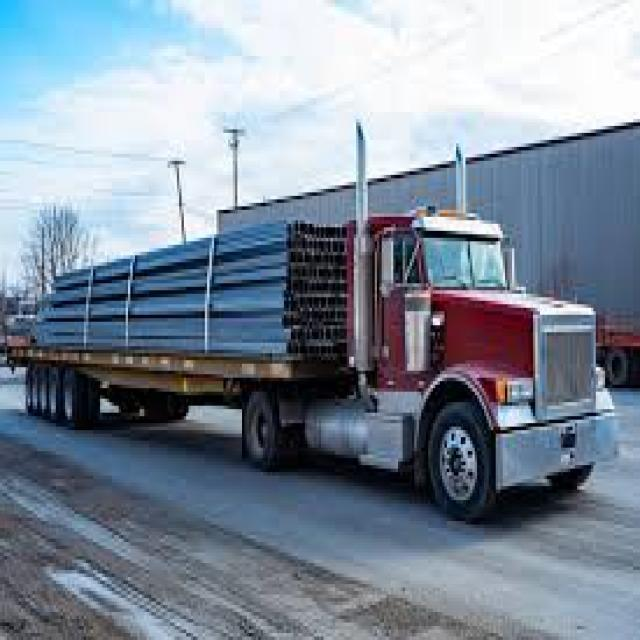uncovered: (14, 216, 604, 513)
